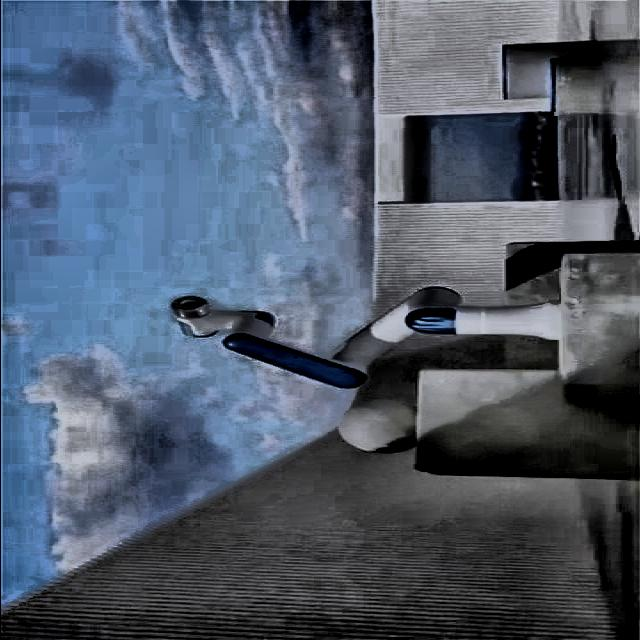robot: (166, 285, 558, 389)
